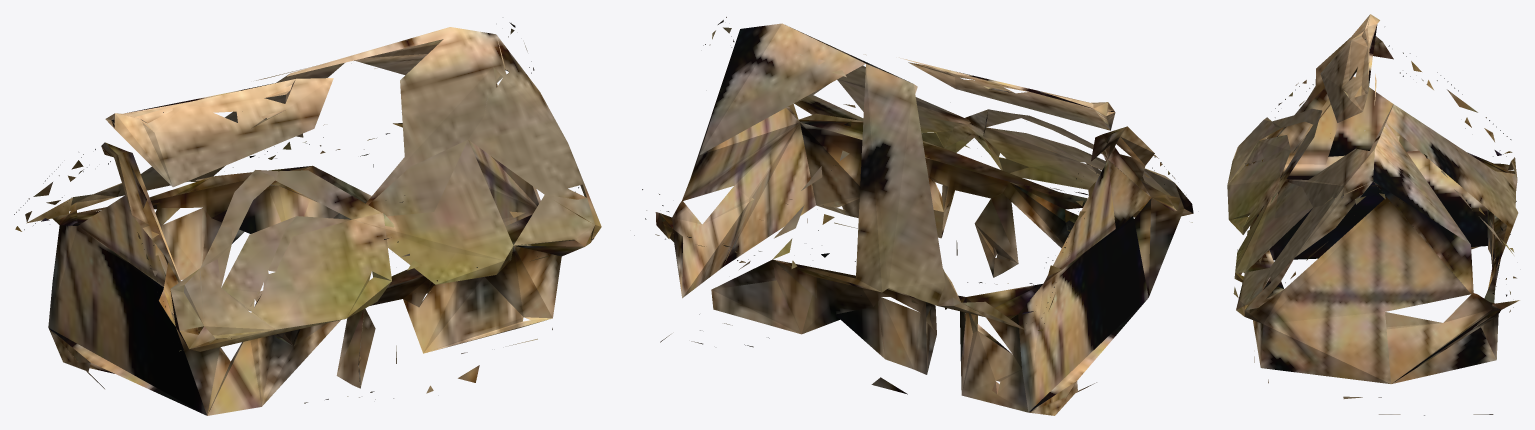
File: ga3_house2_t2_lod2.glb
The picture shows the model from 3 angles, left to right: view 1: azimuth 30°, elevation 25°; view 2: azimuth 150°, elevation 25°; view 3: azimuth 270°, elevation 25°; orthographic projection. The views are drawn at different scales.
Parts seen in each view (by area): view 1: ga3_house2_t2_lod2; view 2: ga3_house2_t2_lod2; view 3: ga3_house2_t2_lod2.
Boxes of the visible parts, left/top/right/bottom form: ga3_house2_t2_lod2: left=14, top=22, right=601, bottom=415; ga3_house2_t2_lod2: left=634, top=17, right=1193, bottom=415; ga3_house2_t2_lod2: left=1227, top=14, right=1519, bottom=415.
Bounding box in the file's own units: 7.86 × 5.19 × 5.64.
1 material, 1 textured.
